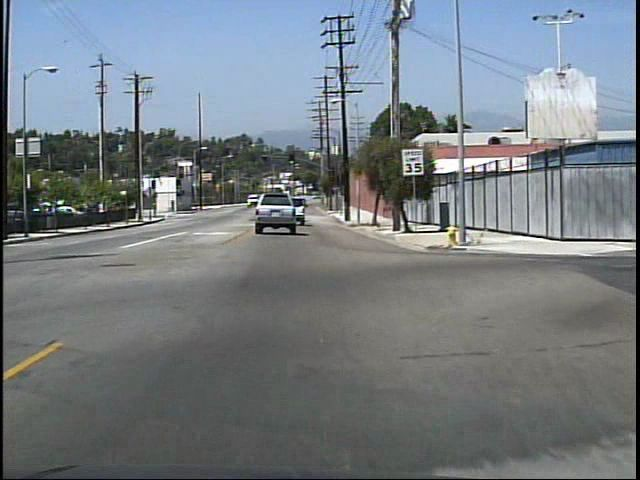car: (254, 191, 292, 233)
strada: (1, 218, 625, 475)
